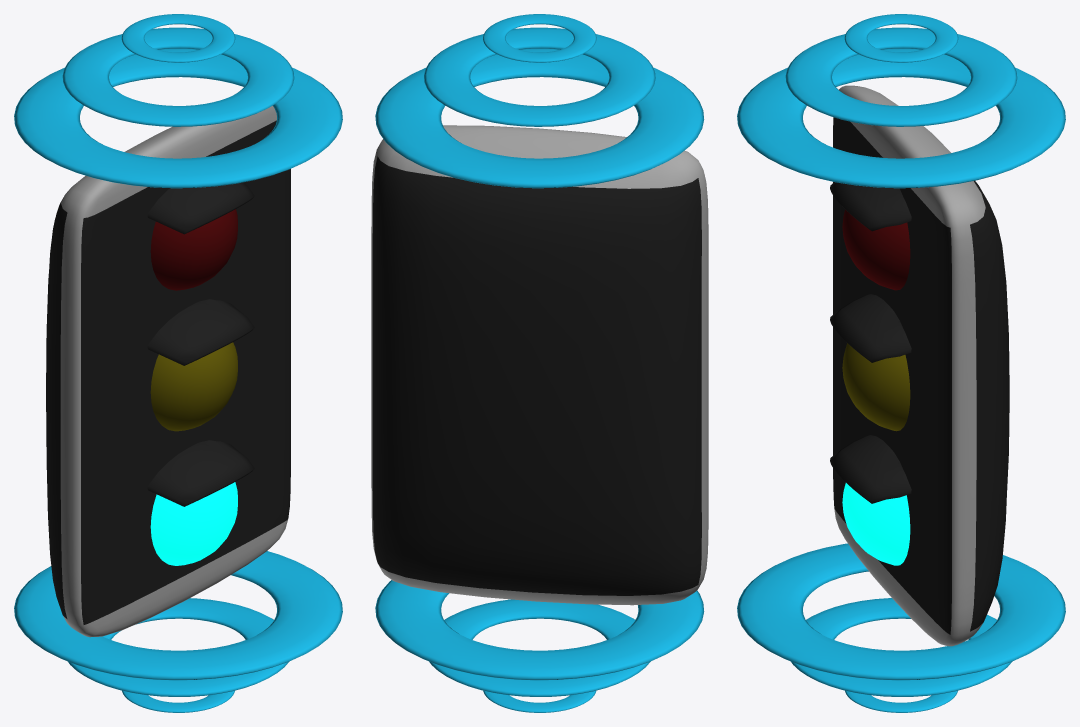
File: Semafaro.fbx
The picture shows the model from 3 angles, left to right: view 1: azimuth 30°, elevation 25°; view 2: azimuth 150°, elevation 25°; view 3: azimuth 270°, elevation 25°; orthographic projection.
Parts seen in each view (by area): view 1: Cube, Torus, Roundcube.003, Roundcube.001, Roundcube.002, Roundcube; view 2: Cube, Torus; view 3: Torus, Cube, Roundcube.003, Roundcube.001, Roundcube.002, Roundcube.
Part boxes in pixels (x1,y1,x2,y2): Cube: [46, 106, 290, 637]; Torus: [14, 14, 342, 712]; Roundcube.003: [147, 182, 254, 506]; Roundcube.001: [150, 342, 237, 431]; Roundcube.002: [150, 482, 237, 565]; Roundcube: [150, 209, 237, 290]; Cube: [371, 125, 708, 605]; Torus: [375, 14, 704, 712]; Torus: [737, 14, 1065, 712]; Cube: [833, 85, 1009, 646]; Roundcube.003: [830, 182, 911, 503]; Roundcube.001: [842, 343, 910, 431]; Roundcube.002: [842, 483, 910, 565]; Roundcube: [842, 209, 910, 290].
Bounding box in the file's own units: 191 × 420 × 191.
